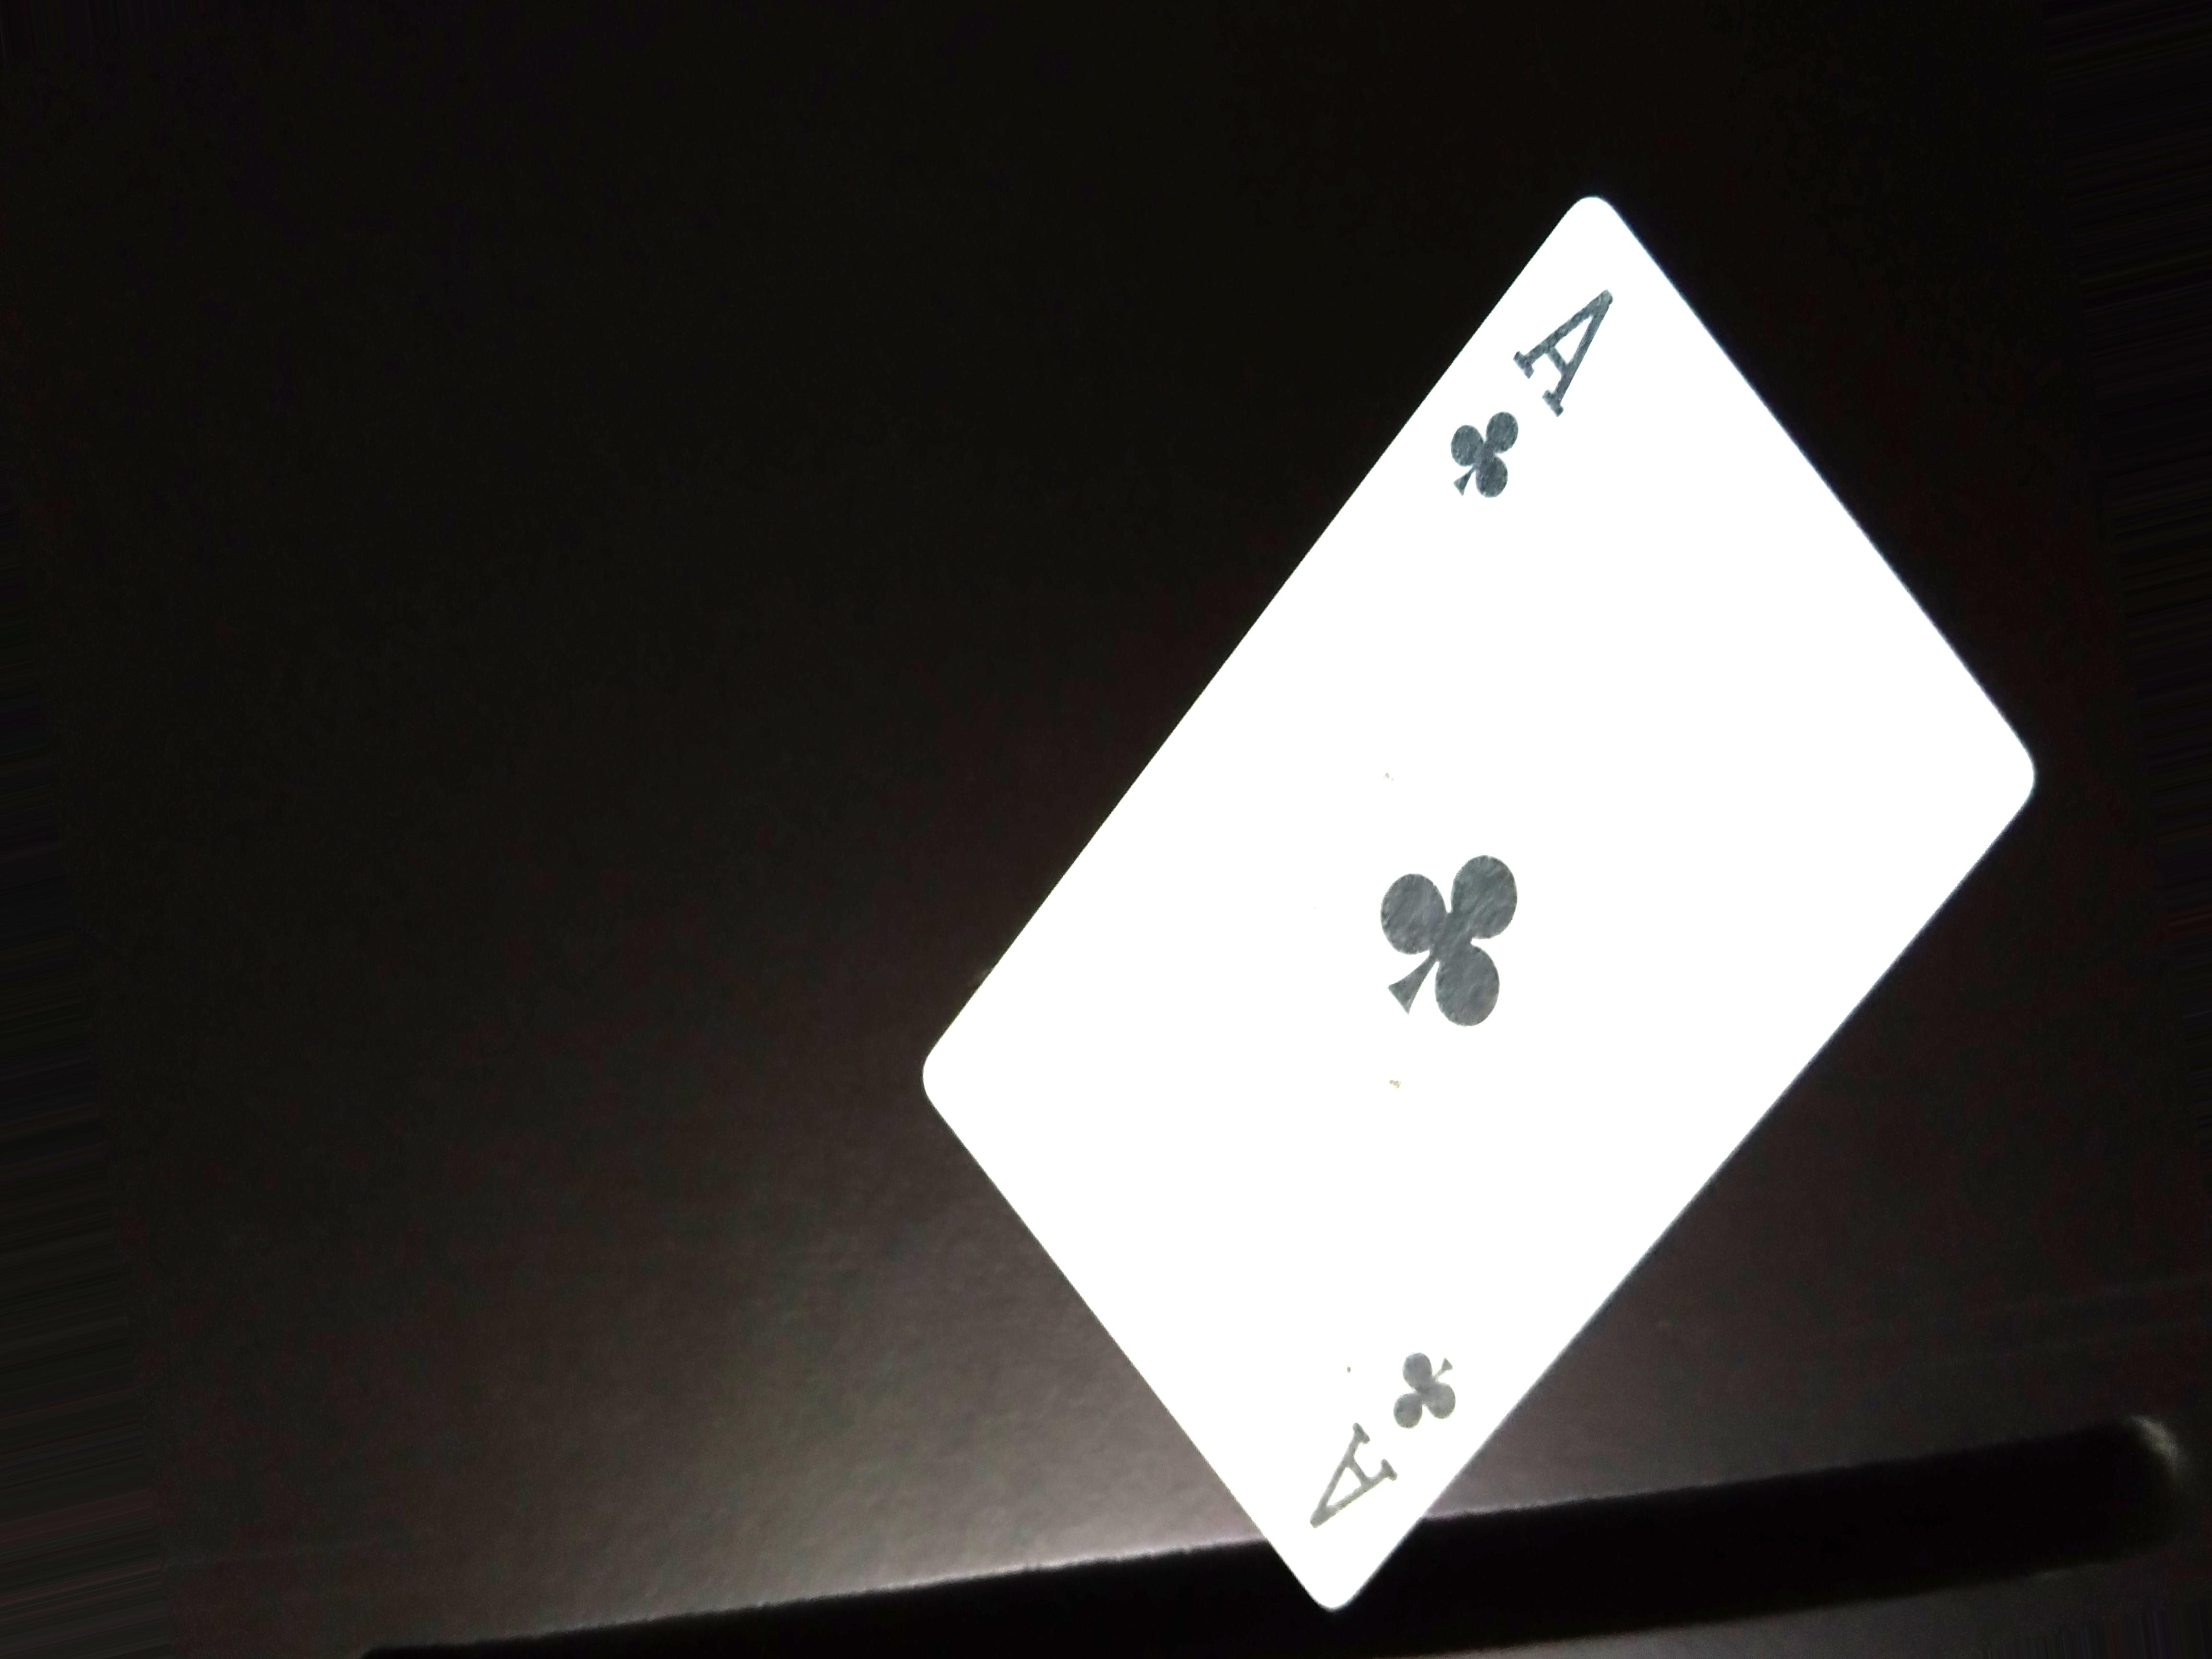AC: (1440, 284, 1623, 516)
